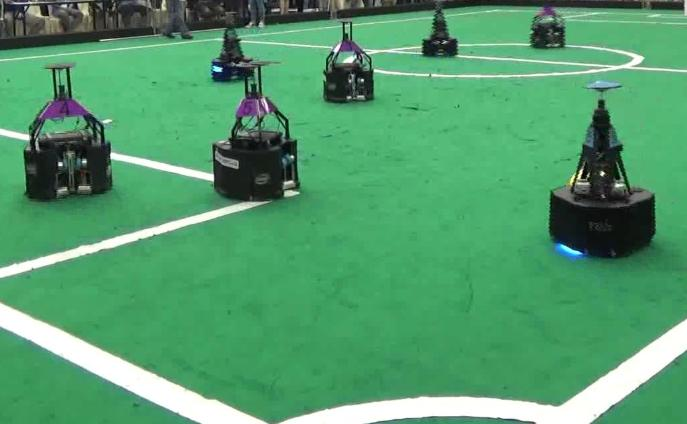robot: (545, 78, 662, 264), (207, 56, 306, 203), (21, 61, 120, 205), (318, 17, 378, 104), (205, 10, 265, 85), (419, 1, 461, 57), (527, 6, 568, 50)
